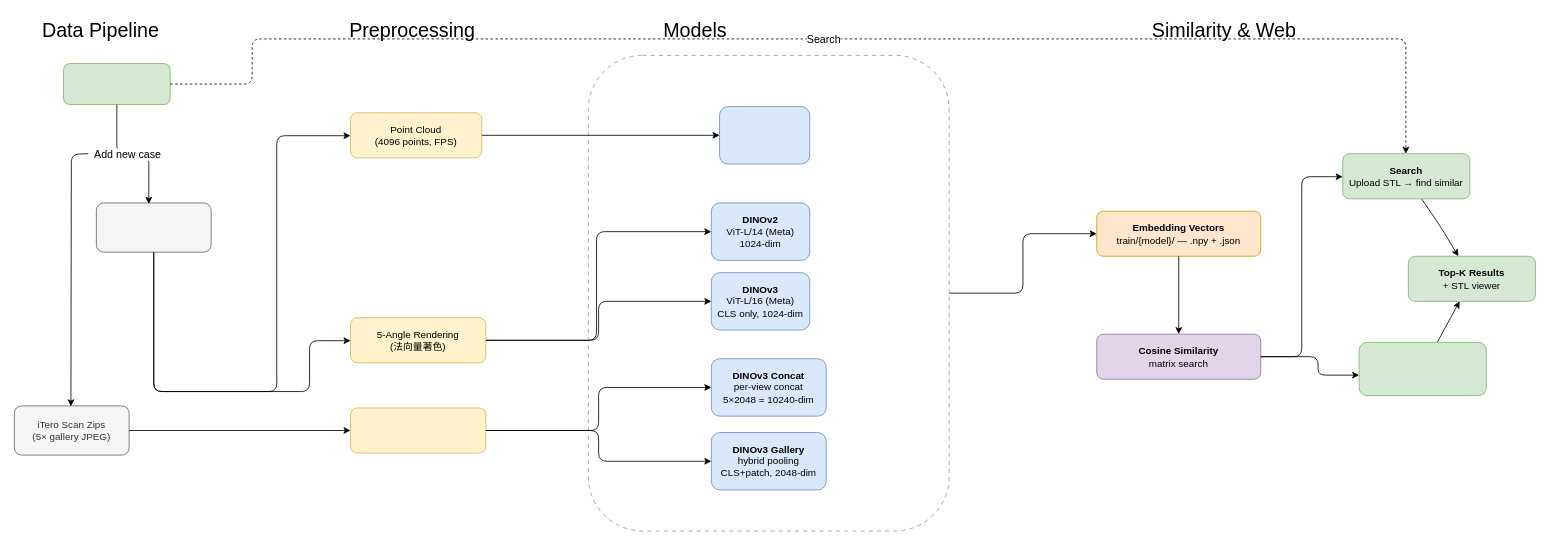
Image size: 1550x545. Some labels were removed from this diagram. Here are the shapes that lost their labels. From the top down, the box of each, then its label:
(63, 63, 170, 105): Upload iTero Add new case
(719, 106, 810, 164): SimCLR self-trained 512-dim
(96, 202, 211, 252): 3D .stl Files (full arch mesh)
(1358, 342, 1486, 396): Validation Judge top-K pass/fail Generate report
(350, 407, 486, 453): 5× Gallery JPEG (front, top, bottom, left, right )
